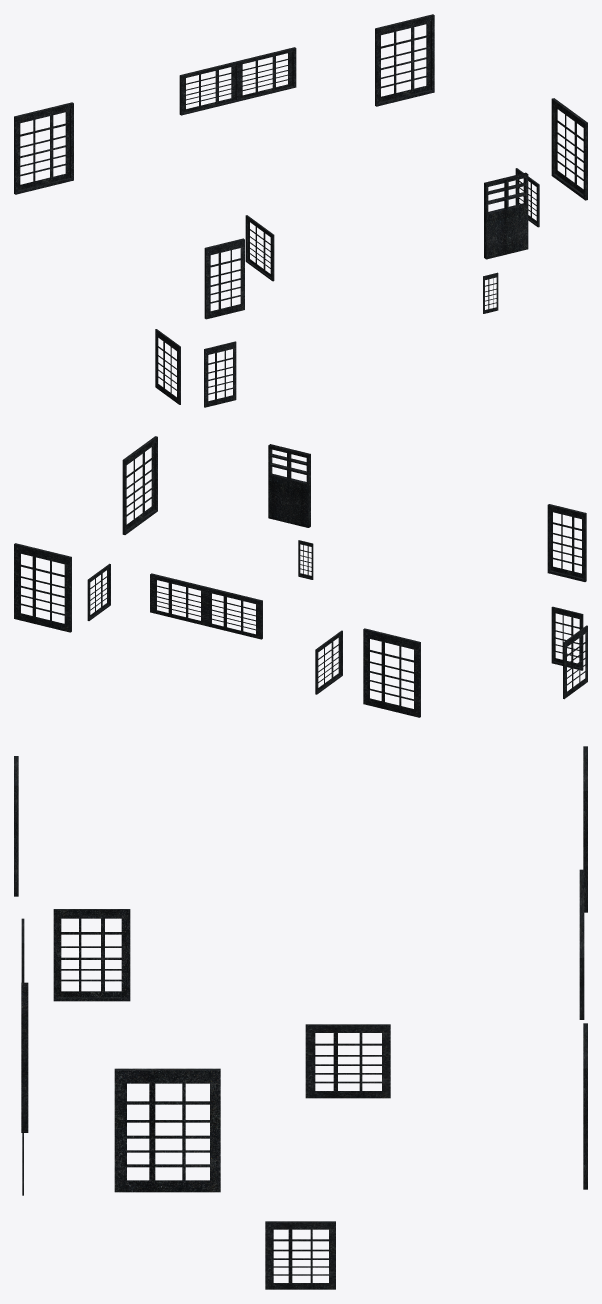
Rendered from Ventanas.obj.
3 renders of one model, top to bottom at view 1: azimuth 30°, elevation 25°; view 2: azimuth 150°, elevation 25°; view 3: azimuth 270°, elevation 25°, orthographic. The views are drawn at different scales.
Parts seen in each view (by area): view 1: Cuadro:polySurface51, Cuadro:polySurface52, polySurface49, polySurface48, polySurface47, polySurface50, polySurface24, polySurface41, polySurface43, polySurface42; view 2: Cuadro:polySurface51, Cuadro:polySurface52, polySurface48, polySurface49, polySurface47, polySurface50, polySurface24, polySurface41, polySurface43, polySurface42, polySurface51; view 3: polySurface47, polySurface41, polySurface43, polySurface42, Cuadro:polySurface52, Cuadro:polySurface51, polySurface48, polySurface49, polySurface50.
Boxes of the visible parts, <box> form: Cuadro:polySurface51: <box>179,47,296,115</box>; Cuadro:polySurface52: <box>484,172,528,259</box>; polySurface49: <box>14,102,73,194</box>; polySurface48: <box>375,14,434,106</box>; polySurface47: <box>551,98,587,200</box>; polySurface50: <box>204,238,244,319</box>; polySurface24: <box>204,341,236,407</box>; polySurface41: <box>155,329,180,404</box>; polySurface43: <box>245,215,274,281</box>; polySurface42: <box>515,168,539,227</box>; Cuadro:polySurface51: <box>150,573,262,639</box>; Cuadro:polySurface52: <box>268,444,310,527</box>; polySurface48: <box>14,543,71,632</box>; polySurface49: <box>363,628,420,717</box>; polySurface47: <box>122,436,157,534</box>; polySurface50: <box>547,504,586,581</box>; polySurface24: <box>551,606,583,670</box>; polySurface41: <box>563,625,587,699</box>; polySurface43: <box>315,630,342,694</box>; polySurface42: <box>87,563,110,620</box>; polySurface51: <box>298,540,313,579</box>; polySurface47: <box>114,1068,220,1192</box>; polySurface41: <box>53,909,130,1001</box>; polySurface43: <box>305,1024,390,1098</box>; polySurface42: <box>265,1221,335,1289</box>; Cuadro:polySurface52: <box>21,982,28,1132</box>; Cuadro:polySurface51: <box>579,869,584,1019</box>; polySurface48: <box>583,1023,587,1189</box>; polySurface49: <box>583,746,587,912</box>; polySurface50: <box>14,756,18,896</box>.
Size of the model in its own units: 10.41 by 3.85 by 7.69.
Materials: 1 (1 with a texture image).
